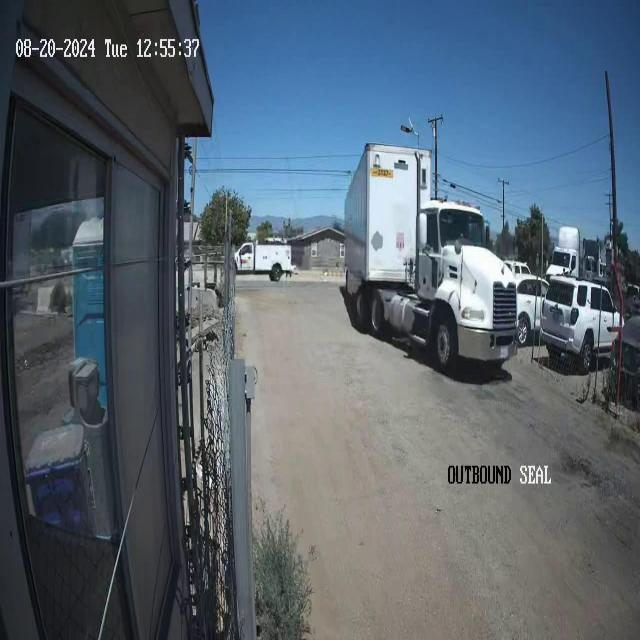TRUCK_CONTAINER: (342, 141, 518, 376)
